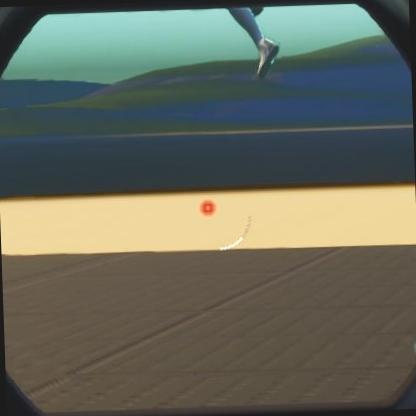person: (233, 0, 279, 75)
